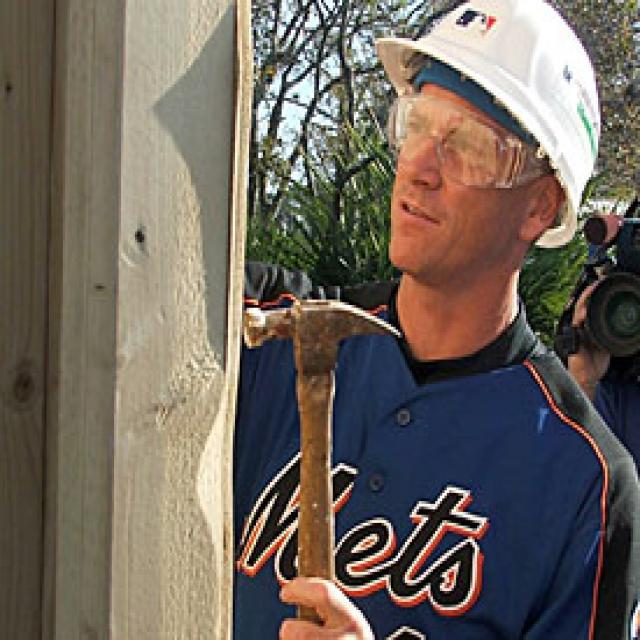safety_helmet: (374, 2, 609, 234)
